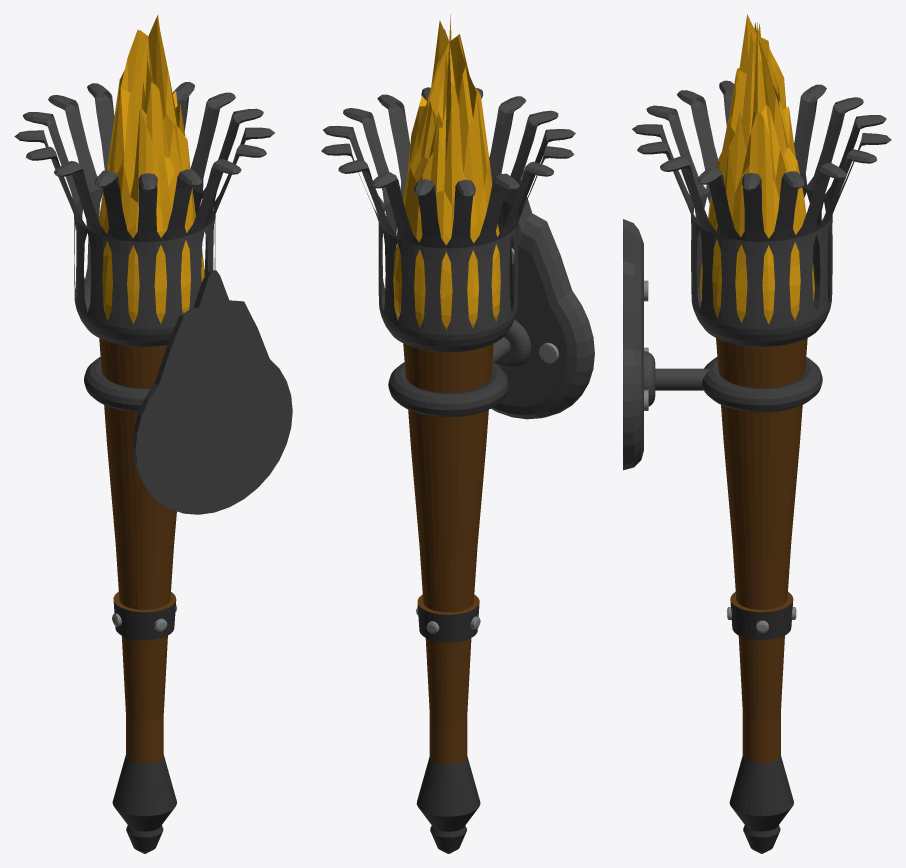
The model's file is Fackla.fbx.
3 renders of one model, left to right at view 1: azimuth 30°, elevation 25°; view 2: azimuth 150°, elevation 25°; view 3: azimuth 270°, elevation 25°, orthographic.
Visible parts, largest first — view 1: Metal.001, MEtal, Handle, Sphere, Metal bottom, Metal, Metal.002; view 2: MEtal, Handle, Sphere, Metal.001, Metal bottom, Metal, Metal.002, Spikes; view 3: MEtal, Handle, Sphere, Metal.001, Metal bottom, Metal, Metal.002.
Part boxes in pixels (x1,y1,x2,y2): Metal.001: (132, 270, 292, 514); MEtal: (14, 82, 274, 347); Handle: (99, 338, 176, 763); Sphere: (99, 15, 204, 324); Metal bottom: (112, 755, 176, 853); Metal: (84, 357, 150, 412); Metal.002: (113, 600, 176, 640); MEtal: (321, 87, 575, 352); Handle: (403, 343, 493, 764); Sphere: (393, 14, 500, 330); Metal.001: (491, 180, 594, 419); Metal bottom: (416, 756, 480, 853); Metal: (388, 362, 508, 417); Metal.002: (417, 603, 479, 642); Spikes: (416, 248, 558, 633); MEtal: (632, 80, 891, 347); Handle: (716, 338, 807, 763); Sphere: (700, 14, 814, 324); Metal.001: (623, 219, 709, 470); Metal bottom: (729, 755, 793, 853); Metal: (702, 357, 822, 412); Metal.002: (730, 600, 793, 640).
Bounding box in the file's own units: 1367 × 4882 × 1413.
